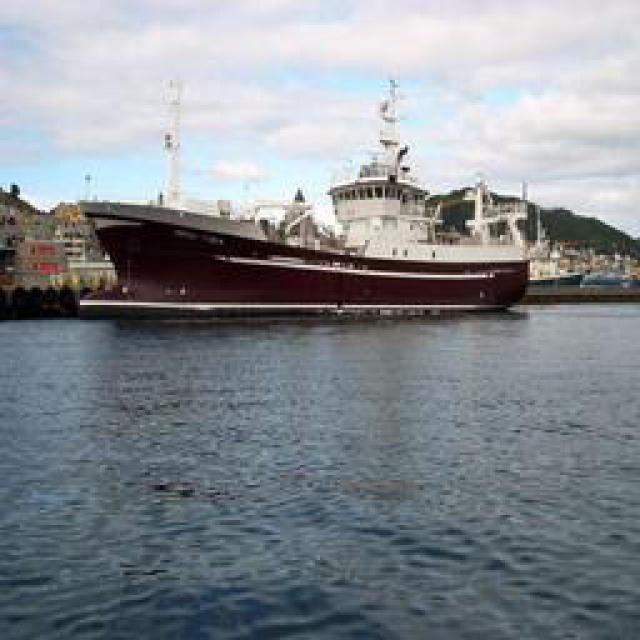Ship: (82, 80, 540, 318)
